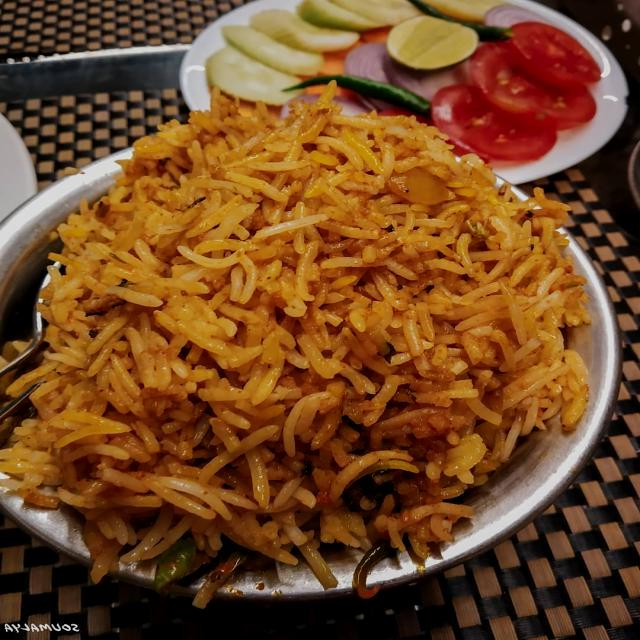biryani: (69, 106, 573, 572)
